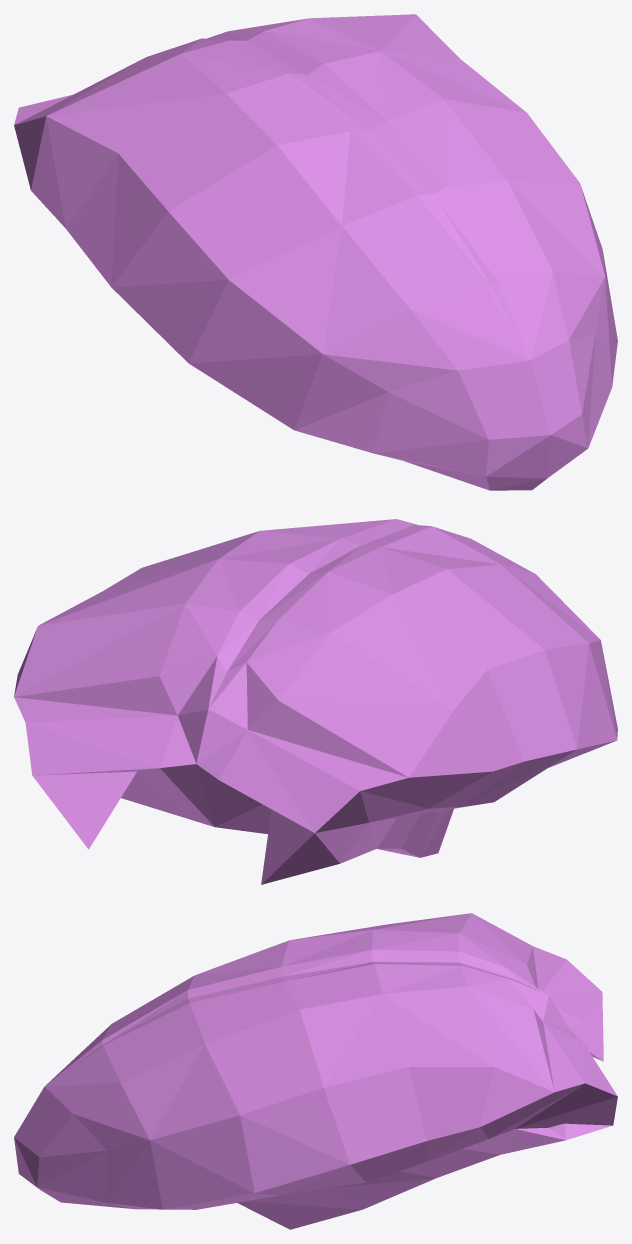
The model's file is salivary gland.gltf.
3 renders of one model, top to bottom at view 1: azimuth 30°, elevation 25°; view 2: azimuth 150°, elevation 25°; view 3: azimuth 270°, elevation 25°, orthographic. The views are drawn at different scales.
Parts seen in each view (by area): view 1: node_id30; view 2: node_id30; view 3: node_id30.
Boxes of the visible parts, x1=… form: node_id30: x1=14, y1=14, x2=617, y2=490; node_id30: x1=14, y1=519, x2=617, y2=884; node_id30: x1=14, y1=913, x2=617, y2=1229.
Size of the model in its own units: 0.4444 by 0.2781 by 0.6273.
